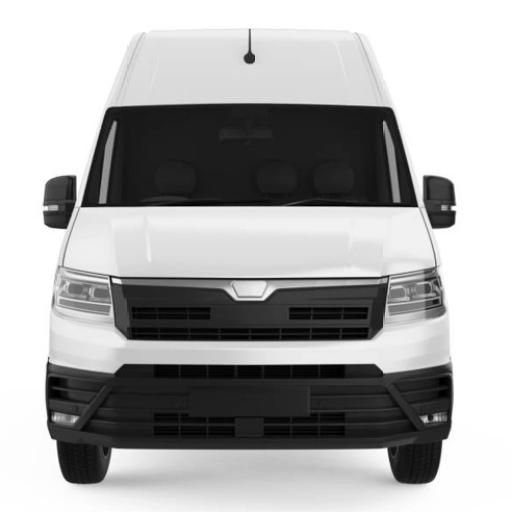van: (46, 30, 455, 482)
